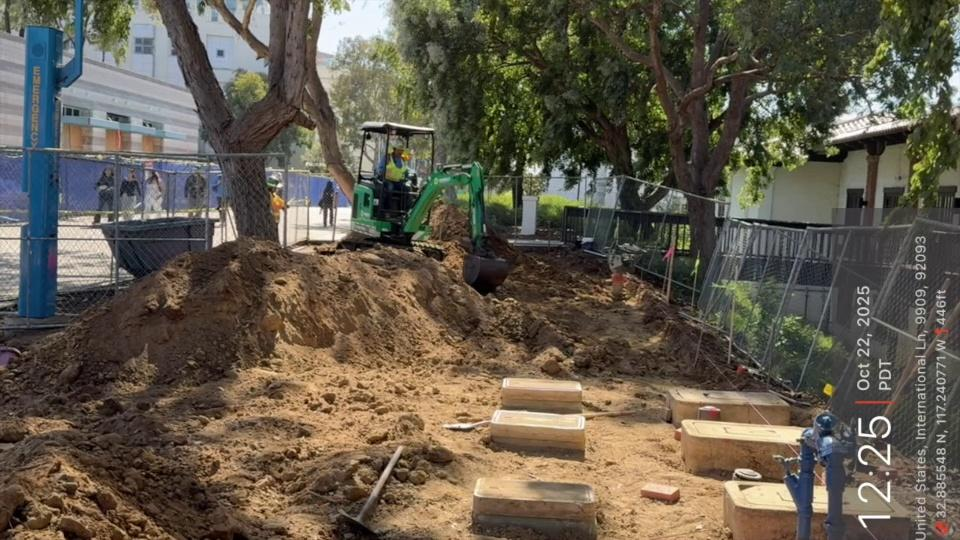Exacavator: (337, 119, 519, 294)
